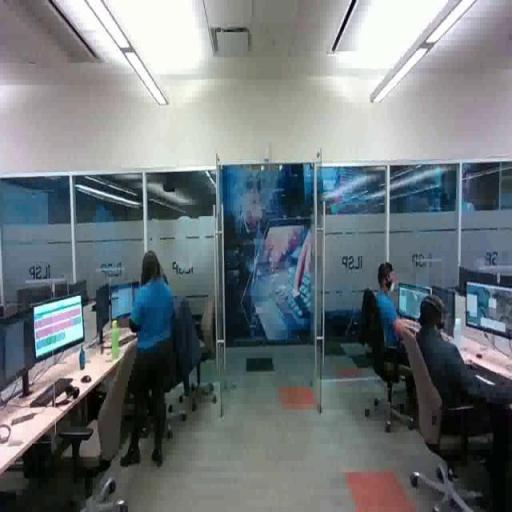person: (403, 295, 512, 465), (120, 250, 171, 469), (363, 259, 432, 379)
